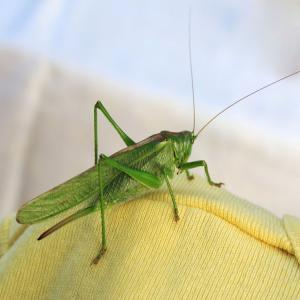locust: (8, 94, 224, 240)
